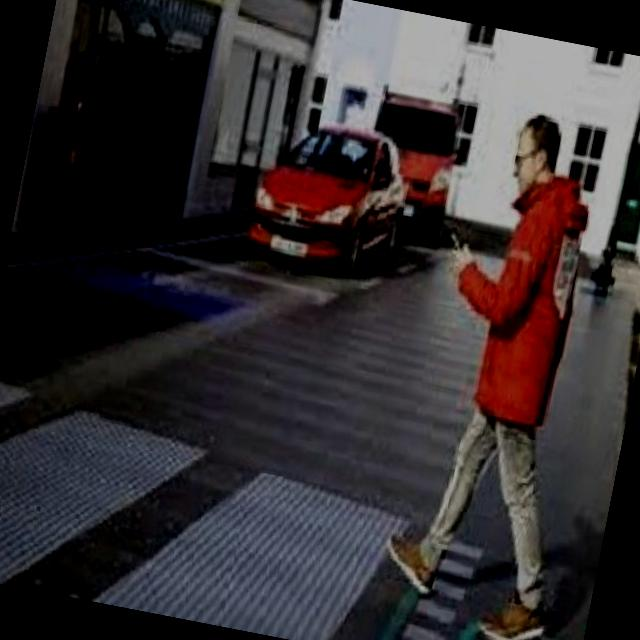Person: (370, 97, 640, 640)
